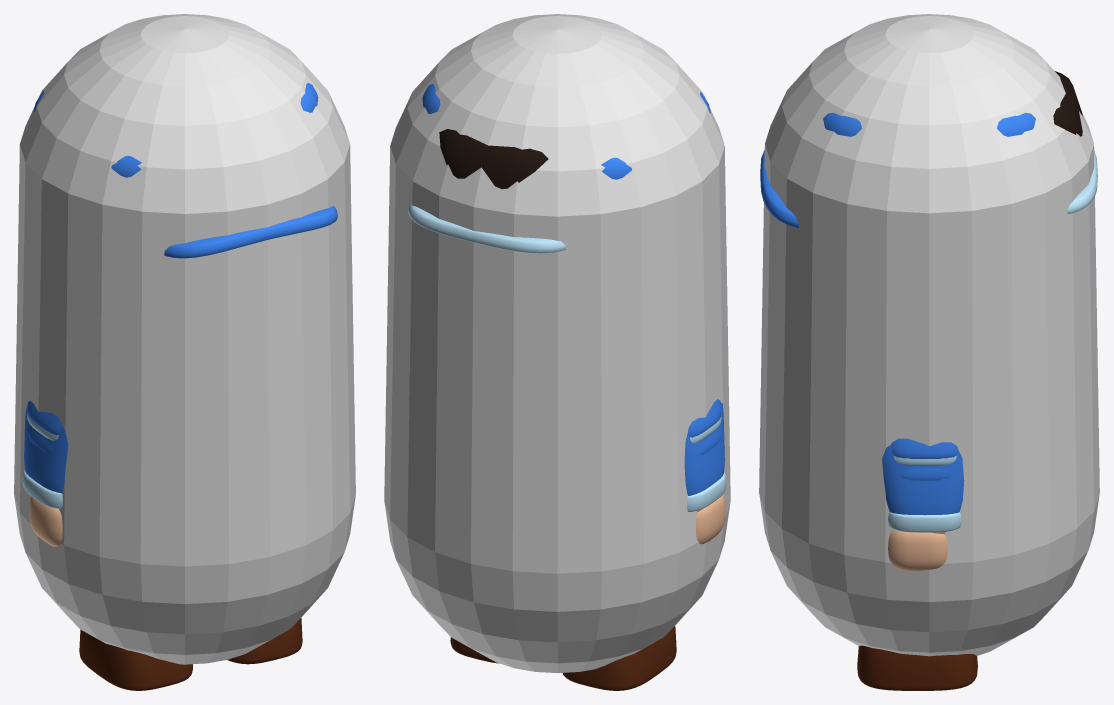
The model's file is character_modular.glb.
The picture shows the model from 3 angles, left to right: view 1: azimuth 30°, elevation 25°; view 2: azimuth 150°, elevation 25°; view 3: azimuth 270°, elevation 25°; orthographic projection.
Visible parts, largest first — view 1: Ref_Capsule_160x80cm, Shoes01_Sneaker_Upper_R, Hat01_Cap_Visor, Top03_Hoodie_LongSleeve_R, Shoes01_Sneaker_Upper_L, Arm_R_Base, Hat09_Beret_Crown, Top03_Hoodie_WristCuff_R, Top01_Jersey_Sleeve_R; view 2: Ref_Capsule_160x80cm, Hat08_Ponytail_Flow, Shoes01_Sneaker_Upper_R, Hat03_Cap_BackVisor, Top03_Hoodie_LongSleeve_R, Arm_R_Base, Hat09_Beret_Crown, Top03_Hoodie_WristCuff_R, Top01_Jersey_Sleeve_R; view 3: Ref_Capsule_160x80cm, Shoes01_Sneaker_Upper_L, Top03_Hoodie_LongSleeve_L, Arm_L_Base, Hat09_Beret_Crown, Top03_Hoodie_WristCuff_L, Top01_Jersey_Sleeve_L, Hat08_Ponytail_Flow, Hat01_Cap_Visor, Hat03_Cap_BackVisor, Top02_Pangsi_Sleeve_L.
Part boxes in pixels (x1,y1,x2,y2): Ref_Capsule_160x80cm: [14, 14, 355, 664]; Shoes01_Sneaker_Upper_R: [79, 629, 192, 689]; Hat01_Cap_Visor: [164, 206, 337, 258]; Top03_Hoodie_LongSleeve_R: [24, 406, 68, 493]; Shoes01_Sneaker_Upper_L: [229, 618, 302, 662]; Arm_R_Base: [29, 496, 62, 546]; Hat09_Beret_Crown: [33, 83, 318, 177]; Top03_Hoodie_WristCuff_R: [22, 469, 62, 508]; Top01_Jersey_Sleeve_R: [27, 401, 62, 435]; Ref_Capsule_160x80cm: [384, 14, 730, 672]; Hat08_Ponytail_Flow: [439, 129, 548, 189]; Shoes01_Sneaker_Upper_R: [562, 626, 676, 689]; Hat03_Cap_BackVisor: [408, 205, 565, 253]; Top03_Hoodie_LongSleeve_R: [684, 403, 724, 495]; Arm_R_Base: [695, 494, 725, 544]; Hat09_Beret_Crown: [422, 84, 710, 179]; Top03_Hoodie_WristCuff_R: [687, 472, 726, 511]; Top01_Jersey_Sleeve_R: [688, 399, 721, 437]; Ref_Capsule_160x80cm: [759, 14, 1099, 656]; Shoes01_Sneaker_Upper_L: [857, 645, 977, 689]; Top03_Hoodie_LongSleeve_L: [882, 445, 964, 515]; Arm_L_Base: [888, 529, 947, 571]; Hat09_Beret_Crown: [823, 112, 1035, 136]; Top03_Hoodie_WristCuff_L: [888, 512, 961, 532]; Top01_Jersey_Sleeve_L: [891, 438, 958, 458]; Hat08_Ponytail_Flow: [1053, 71, 1082, 136]; Hat01_Cap_Visor: [760, 150, 798, 227]; Hat03_Cap_BackVisor: [1067, 151, 1097, 213]; Top02_Pangsi_Sleeve_L: [900, 468, 950, 480].
Size of the model in its own units: 0.8338 by 1.6 by 0.8.
